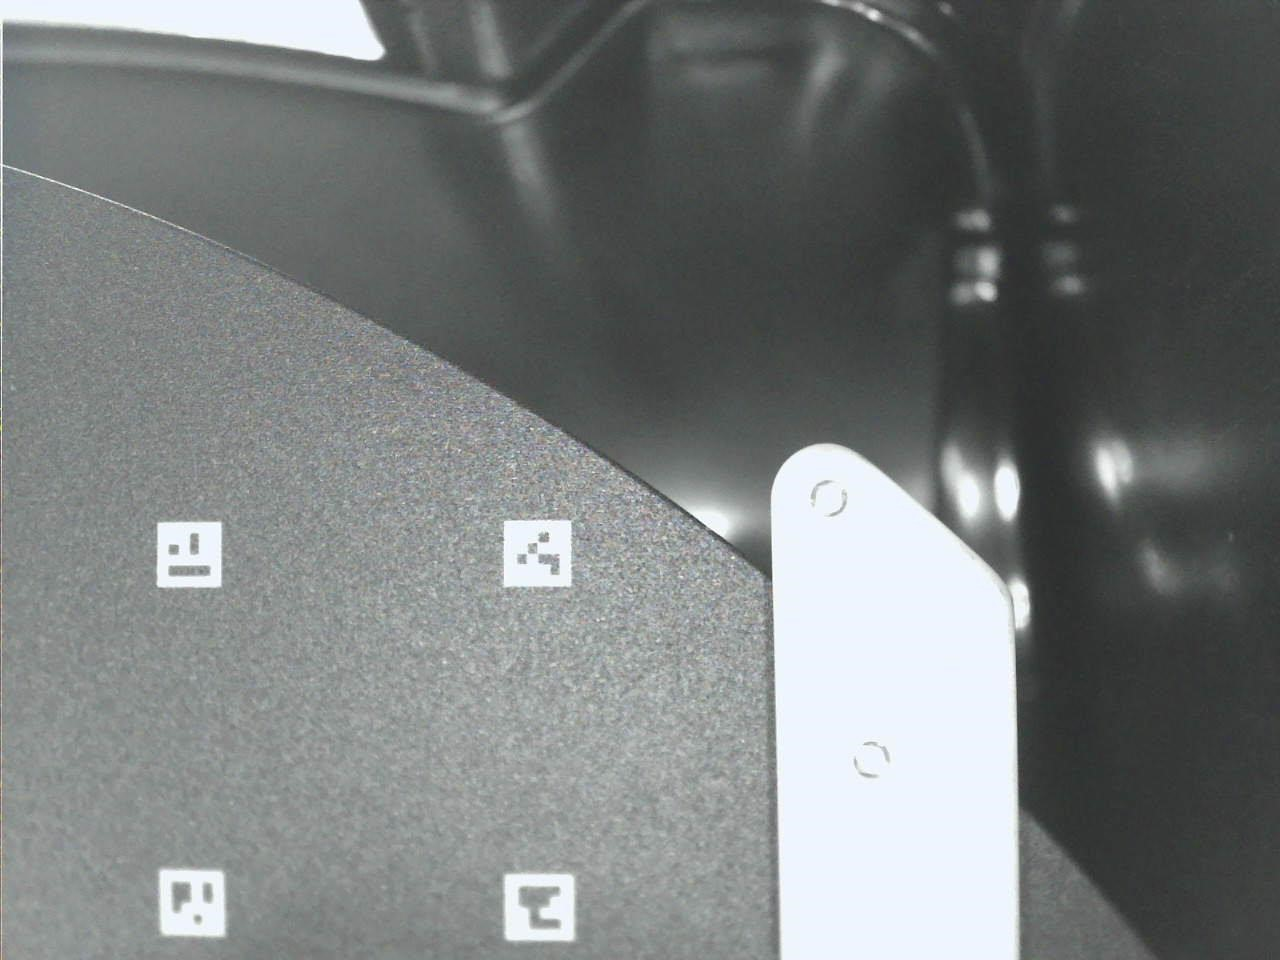tip: (760, 423, 1031, 960)
